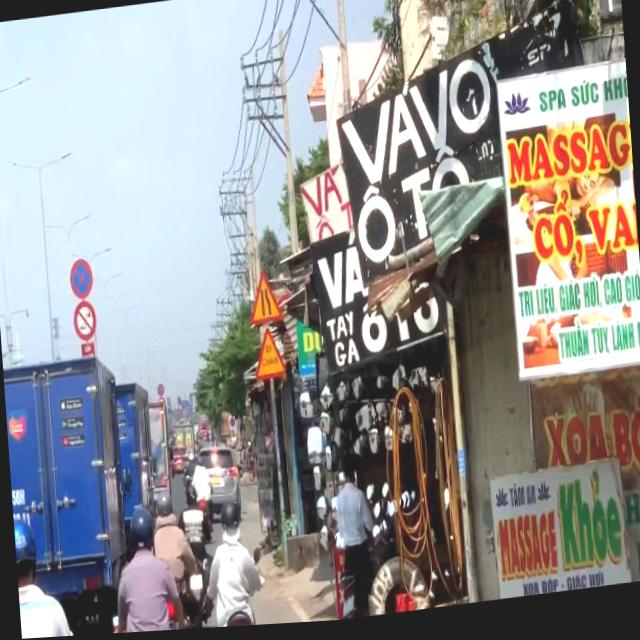Cam dung xe va do xe: (67, 256, 95, 303)
Di cham: (250, 327, 288, 384)
